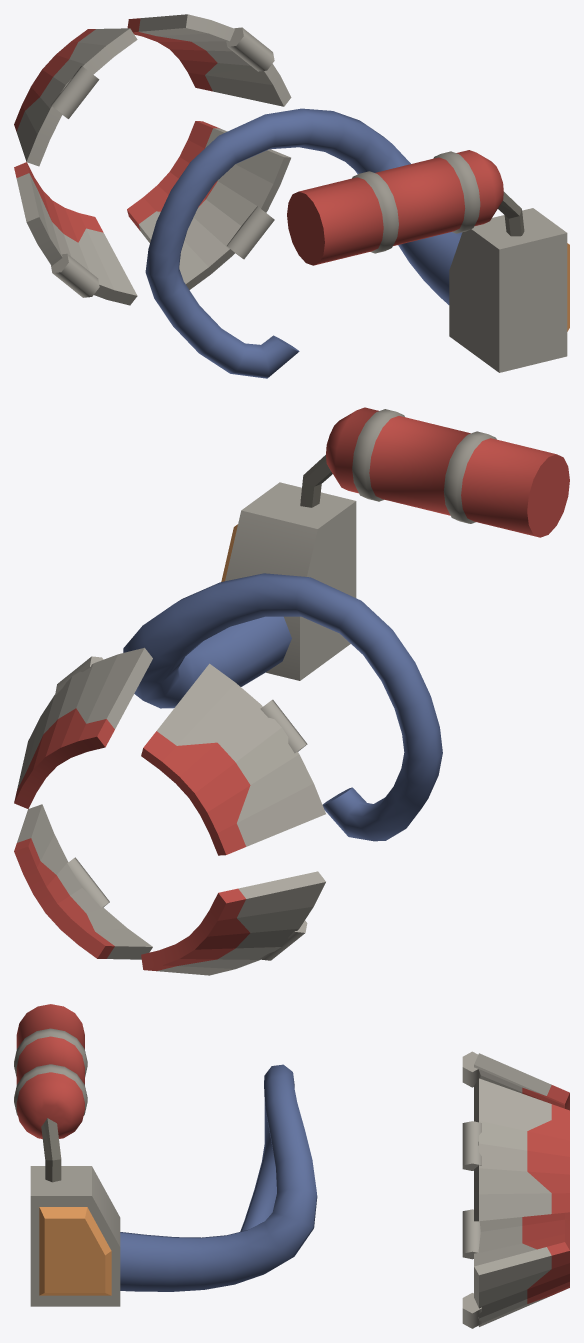
The model's file is Upgrade_1.FBX.
3 views of the same model, one above another, from view 1: azimuth 30°, elevation 25°; view 2: azimuth 150°, elevation 25°; view 3: azimuth 270°, elevation 25° (orthographic). The views are drawn at different scales.
Parts seen in each view (by area): view 1: upgrade 1; view 2: upgrade 1; view 3: upgrade 1.
Boxes of the visible parts, <box> form: upgrade 1: <box>14,14,569,378</box>; upgrade 1: <box>14,407,569,975</box>; upgrade 1: <box>14,1004,569,1328</box>.
Bounding box in the file's own units: 118 × 114 × 210.
